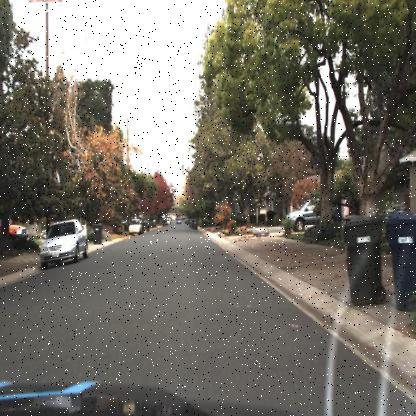car: (39, 217, 89, 267), (282, 196, 342, 232), (128, 218, 143, 235)
